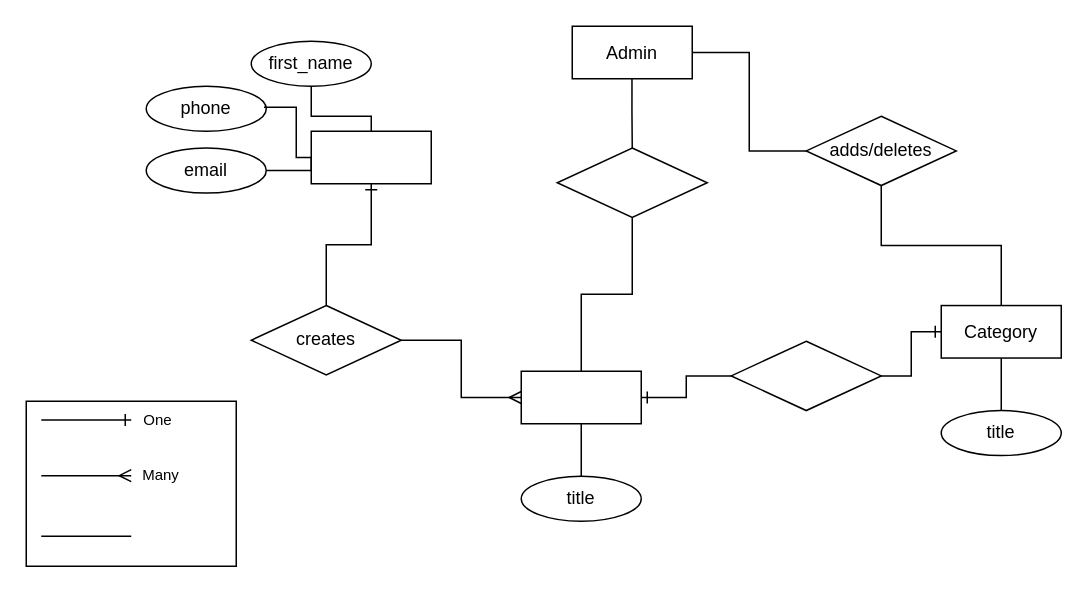
The diagram is 1088 pixels wide and 593 high, and some of its shapes have lost their labels. Each missing label, with the centre of its shape:
"has" goes at (x=805, y=375).
"hides" goes at (x=631, y=182).
"Post" goes at (x=580, y=397).
"User" goes at (x=370, y=157).
